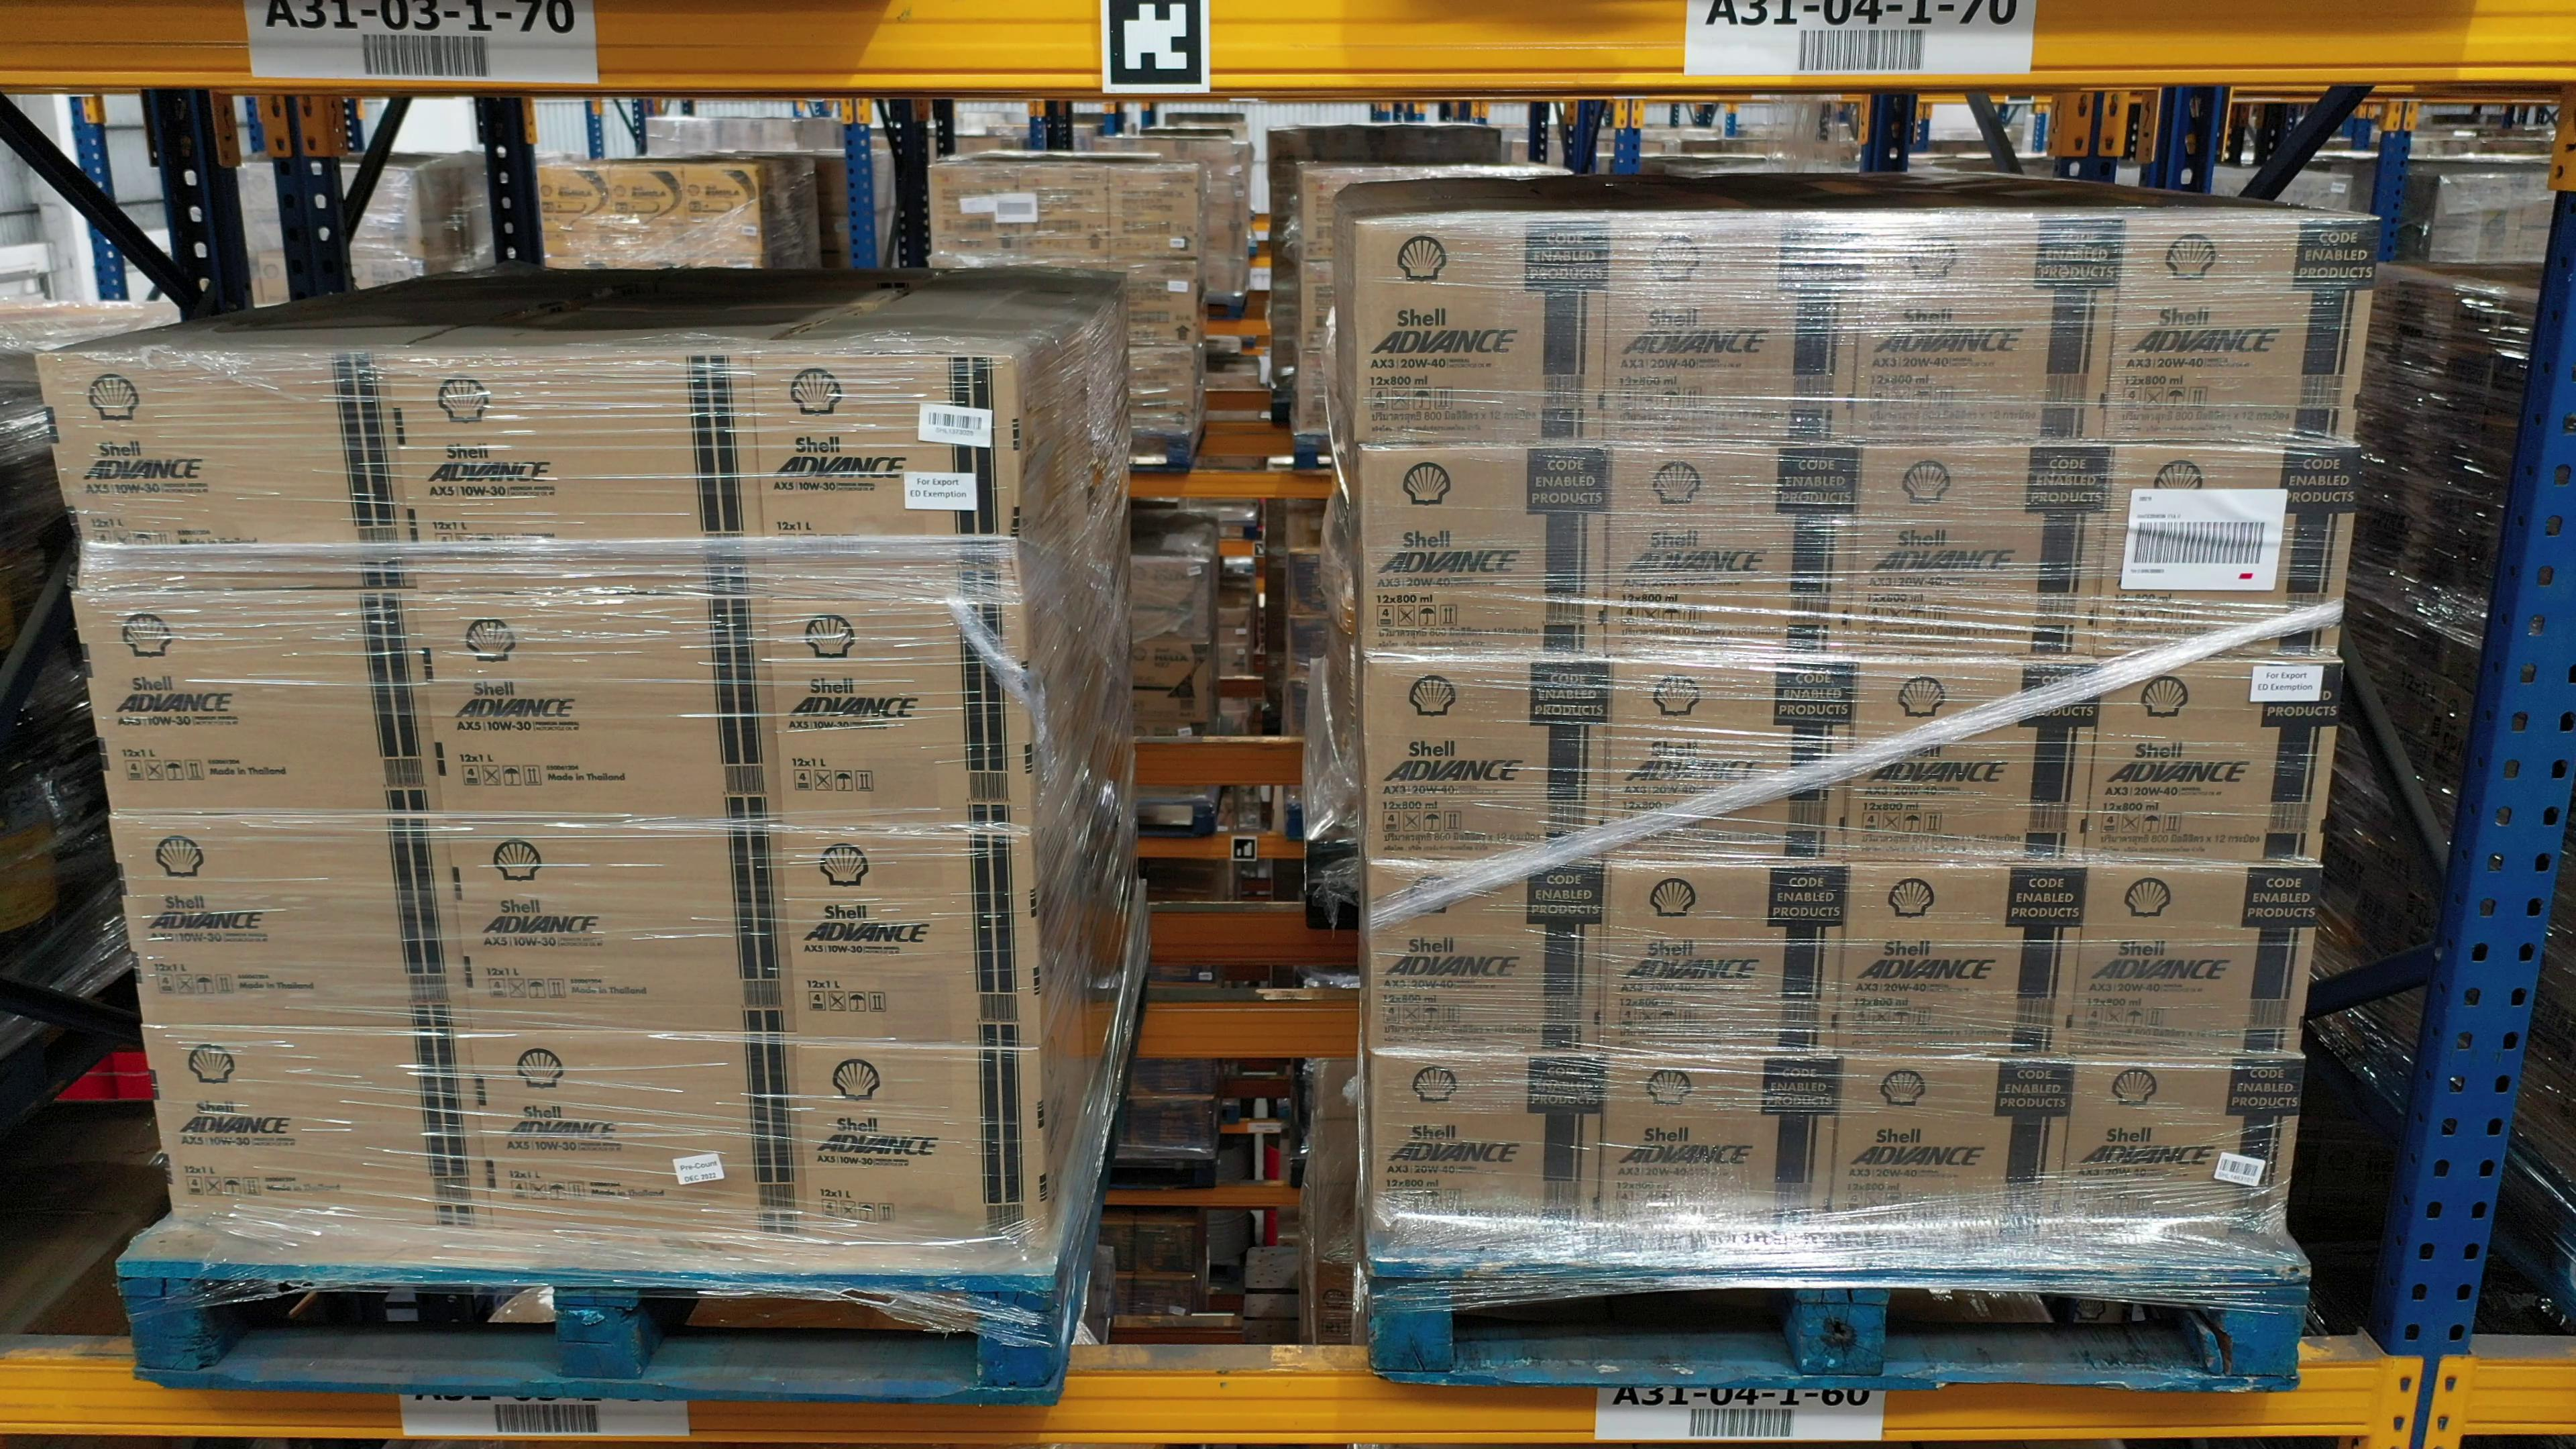-: (35, 345, 421, 593), (389, 354, 770, 596), (421, 591, 786, 830), (74, 594, 449, 821), (456, 816, 800, 1042), (113, 816, 472, 1028), (469, 1026, 812, 1246), (143, 1026, 490, 1237), (752, 357, 1026, 607), (2107, 211, 2381, 446), (1856, 211, 2127, 448), (768, 600, 1033, 837), (1605, 212, 1863, 449), (1355, 214, 1610, 449), (782, 828, 1042, 1049), (2098, 442, 2362, 658), (1608, 442, 1863, 660), (1856, 442, 2112, 658), (794, 1037, 1047, 1247), (2084, 660, 2346, 862), (1845, 658, 2102, 862), (1366, 448, 1610, 660), (1364, 658, 1610, 865), (1603, 660, 1854, 862), (2070, 863, 2323, 1056), (1369, 862, 1612, 1062), (1842, 862, 2084, 1060), (1605, 863, 1851, 1058), (1831, 1056, 2074, 1237), (1601, 1058, 1840, 1237), (1373, 1056, 1603, 1240), (2065, 1062, 2305, 1237)
